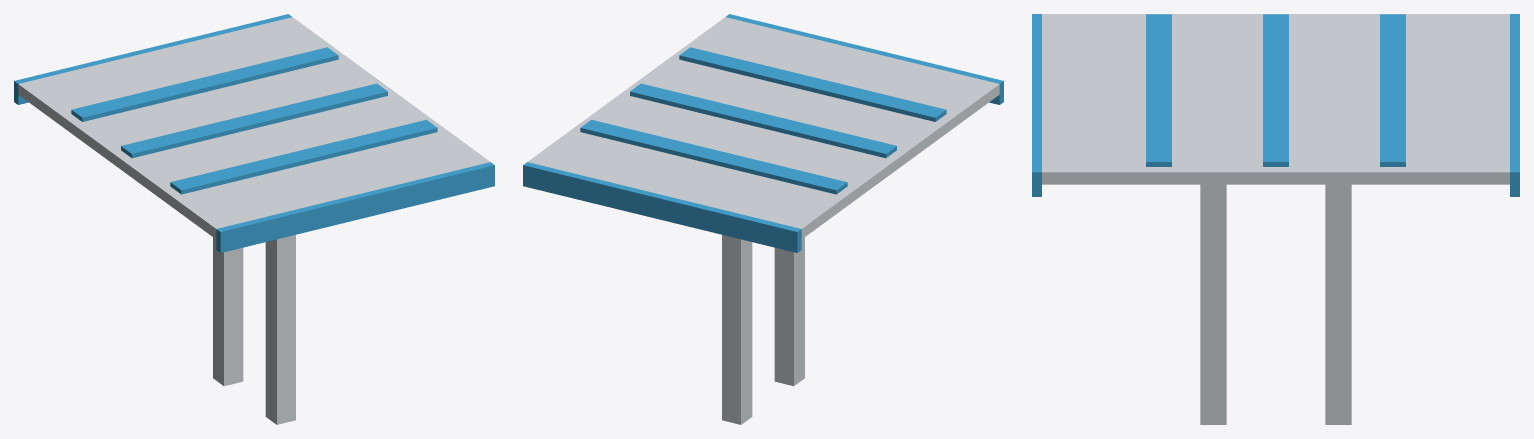
File: bus-station-and-city-transit-station-canopy-section-41d94f86__34205.glb
3 renders of one model, left to right at view 1: azimuth 30°, elevation 25°; view 2: azimuth 150°, elevation 25°; view 3: azimuth 270°, elevation 25°, orthographic. The views are drawn at different scales.
Visible parts, largest first — view 1: station-canopy-section-steel, station-canopy-section-azure; view 2: station-canopy-section-steel, station-canopy-section-azure; view 3: station-canopy-section-steel, station-canopy-section-azure.
Boxes of the visible parts, x1,y1,x2,y2 form: station-canopy-section-steel: (18,17,489,424); station-canopy-section-azure: (14,14,494,252); station-canopy-section-steel: (528,17,999,424); station-canopy-section-azure: (523,14,1003,252); station-canopy-section-steel: (1042,14,1509,424); station-canopy-section-azure: (1032,14,1519,196).
Size of the model in its own units: 6 by 5.86 by 7.82.
